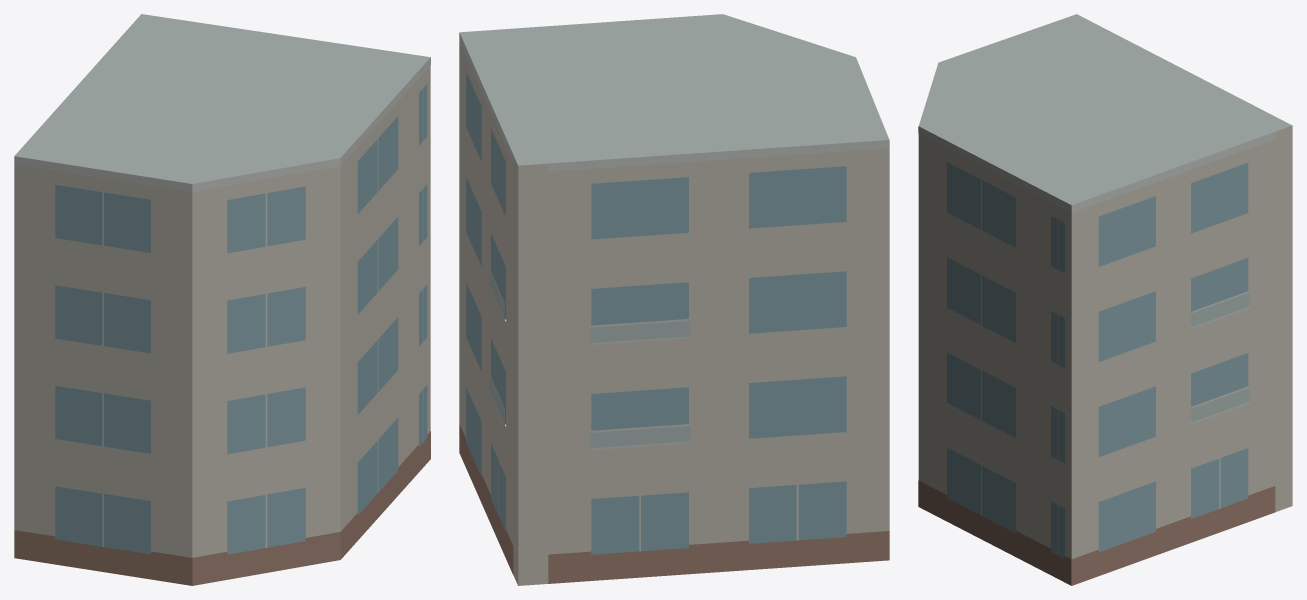
Rendered from survey-upis-32843199.glb.
The picture shows the model from 3 angles, left to right: view 1: azimuth 30°, elevation 25°; view 2: azimuth 150°, elevation 25°; view 3: azimuth 270°, elevation 25°; orthographic projection. The views are drawn at different scales.
Visible parts, largest first — view 1: survey-upis-32843199.tmp; view 2: survey-upis-32843199.tmp; view 3: survey-upis-32843199.tmp.
Part boxes in pixels (x1=…): survey-upis-32843199.tmp: x1=14, y1=14, x2=430, y2=585; survey-upis-32843199.tmp: x1=459, y1=14, x2=889, y2=585; survey-upis-32843199.tmp: x1=918, y1=14, x2=1292, y2=585.
Bounding box in the file's own units: 13.16 × 12.2 × 10.87.
